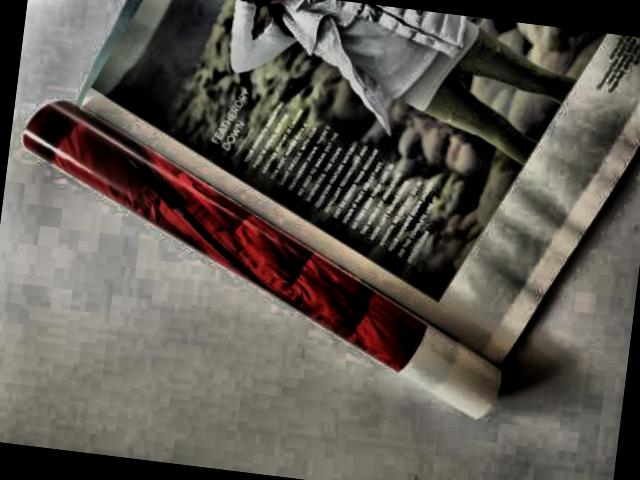Paper: (0, 0, 640, 435)
